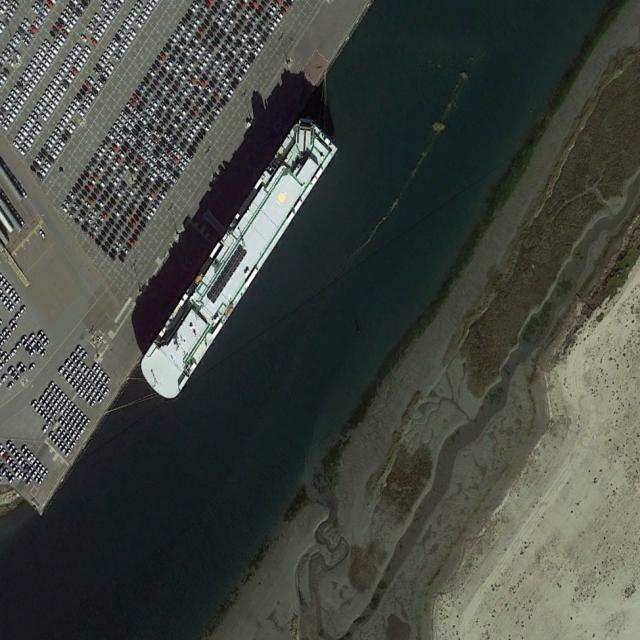RoRo: (134, 108, 339, 407)
